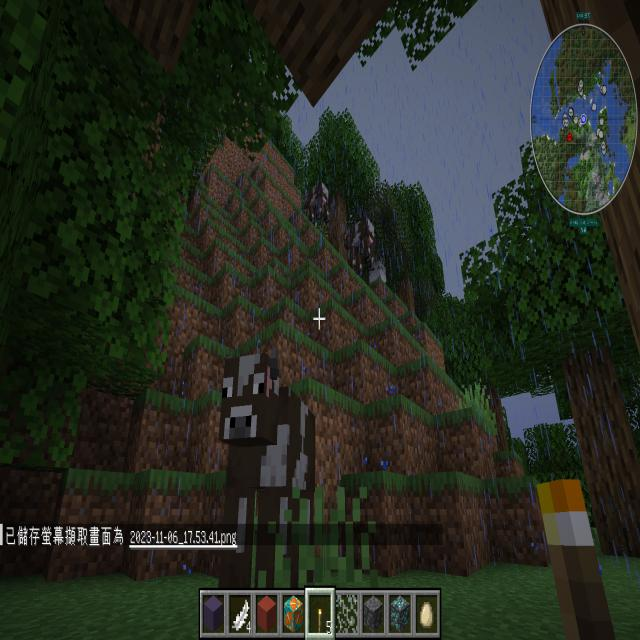cow: (208, 339, 338, 614), (342, 217, 381, 280), (302, 179, 334, 232)
